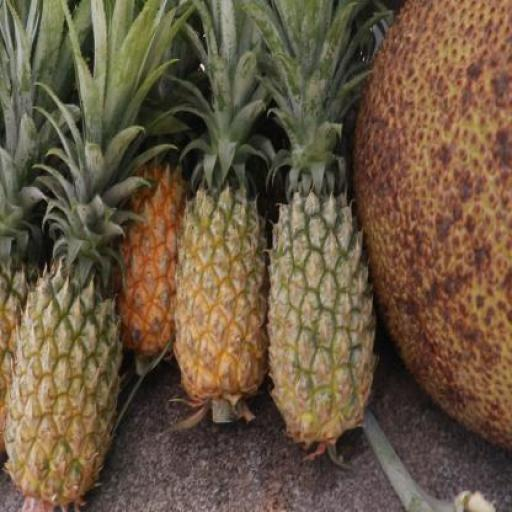------------------------------: (7, 278, 114, 502)
Pineapple - v8 v1: (173, 191, 268, 410), (116, 156, 192, 361)
